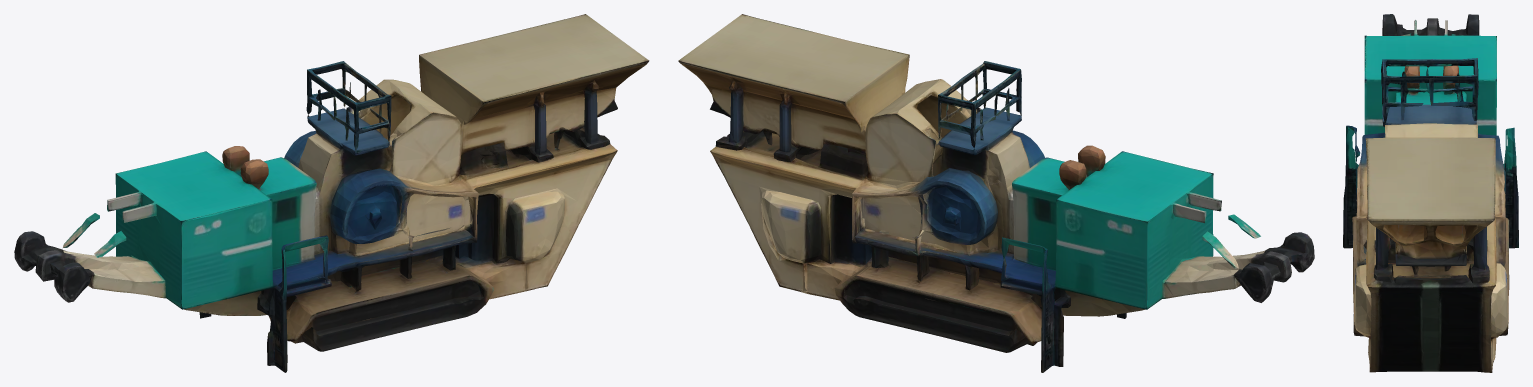
Rendered from track-mounted-mobile-project.glb.
The picture shows the model from 3 angles, left to right: view 1: azimuth 30°, elevation 25°; view 2: azimuth 150°, elevation 25°; view 3: azimuth 270°, elevation 25°; orthographic projection.
Parts seen in each view (by area): view 1: geometry_0; view 2: geometry_0; view 3: geometry_0.
Part boxes in pixels (bbox=[...]): geometry_0: bbox=[14, 14, 649, 372]; geometry_0: bbox=[678, 14, 1314, 372]; geometry_0: bbox=[1343, 14, 1518, 372].
Size of the model in its own units: 0.9995 by 0.3827 by 0.2621.
1 material, 1 textured.
